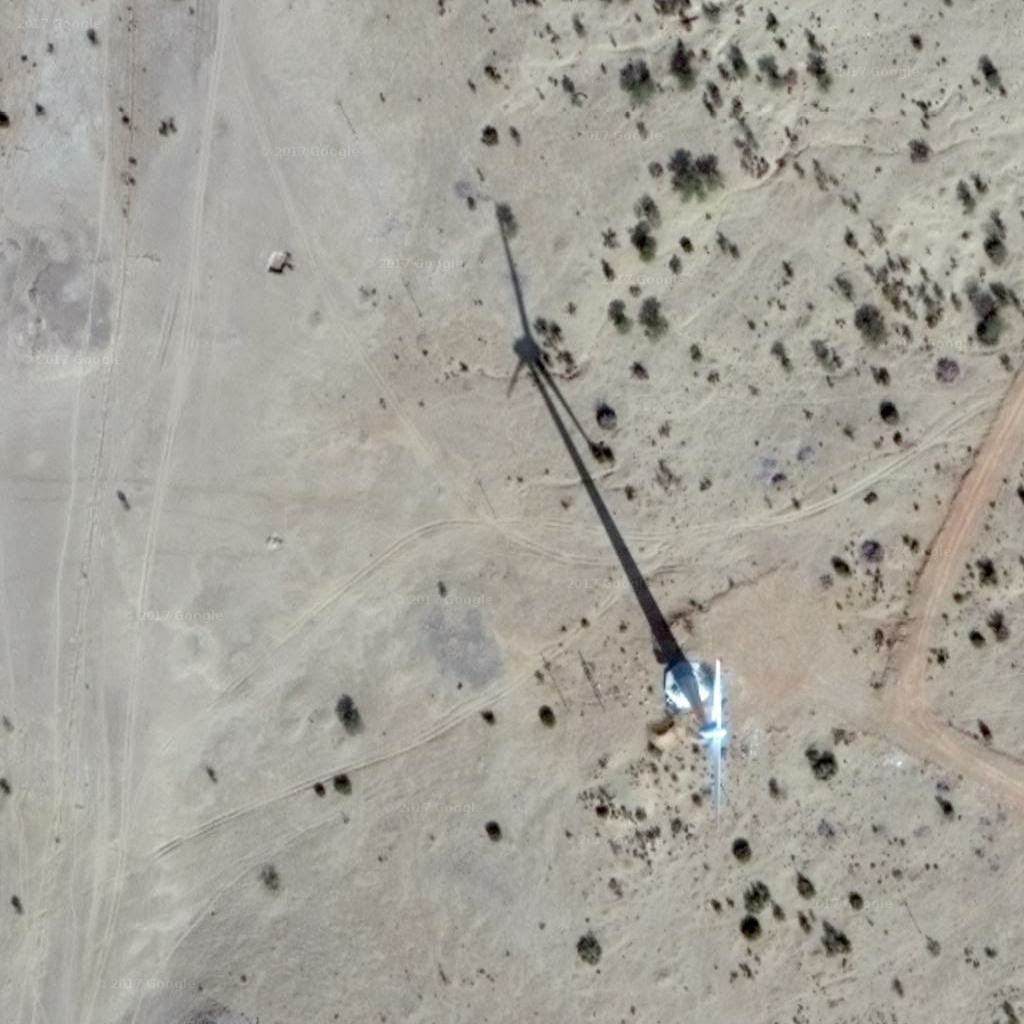Windmill: (468, 207, 610, 450)
